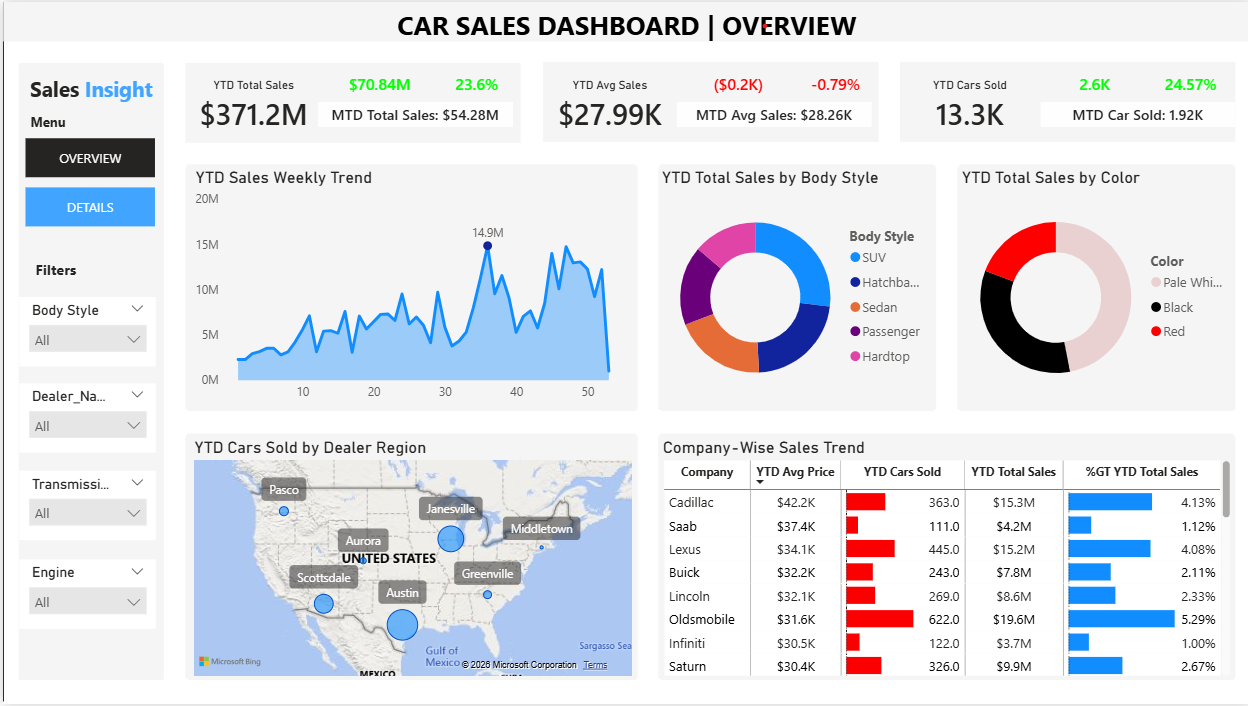

The page's visual inventory and layout, read from the dashboard file:
{"tool":"powerbi","page":{"name":"OVERVIEW","canvas":[1280,720],"ordinal":0},"visuals":[{"type":"card","title":"YTD Total Sales","fields":{"Values":["*Measure table.YTD Total Sales"]},"box":[191.3,78.7,132,61.3],"z":0},{"type":"card","title":"YTD Total Sales","fields":{"Values":["*Measure table.Sales Difference"]},"box":[342,72,88,25.3],"z":1000},{"type":"card","title":"YTD Total Sales","fields":{"Values":["*Measure table.YOY Growth Sales"]},"box":[448.7,72,74.7,25.3],"z":2000},{"type":"card","fields":{"Values":["*Measure table.MTD KPI"]},"box":[323.3,102.7,200,25.3],"z":3000},{"type":"card","title":"YTD Avg Sales","fields":{"Values":["*Measure Table.YTD Average Price"]},"box":[556,78.7,132,61.3],"z":4000},{"type":"card","title":"YTD Total Sales","fields":{"Values":["*Measure Table.Diff Average Price"]},"box":[709.9,71.9,88,25.3],"z":5000},{"type":"card","title":"YTD Total Sales","fields":{"Values":["*Measure Table.YOY Growth in Average Price"]},"box":[816.5,71.9,74.7,25.3],"z":6000},{"type":"card","fields":{"Values":["*Measure Table.MTD Avg KPI"]},"box":[691.2,102.5,200,25.3],"z":7000},{"type":"card","title":"YTD Cars Sold","fields":{"Values":["*Measure Table.YTD Cars Sold"]},"box":[925.3,78.7,132,61.3],"z":8000},{"type":"card","title":"YTD Total Sales","fields":{"Values":["*Measure Table.Cars Sold Diff"]},"box":[1076,72,88,25.3],"z":9000},{"type":"card","title":"YTD Total Sales","fields":{"Values":["*Measure Table.YOY Growth in Cars Sold"]},"box":[1181.3,72,74.7,25.3],"z":10000},{"type":"card","fields":{"Values":["*Measure Table.MTD Cars Sold KPI"]},"box":[1064,102.7,200,25.3],"z":11000},{"type":"areaChart","title":"YTD Sales Weekly Trend","fields":{"Category":["Calander Table.Week"],"Y":["Sum(car_data.Price ($))","*Measure Table.Highest Sales Marker"]},"box":[192.2,168.9,458.9,248.9],"z":12000},{"type":"donutChart","title":"YTD Total Sales by Body Style","fields":{"Category":["car_data.Body Style"],"Y":["*Measure Table.YTD Total Sales"]},"box":[671.1,168.9,285.6,248.9],"z":13000},{"type":"donutChart","title":"YTD Total Sales by Color","fields":{"Category":["car_data.Color"],"Y":["*Measure Table.YTD Total Sales"]},"box":[977.8,168.9,286.7,248.9],"z":14000},{"type":"map","title":"YTD Cars Sold by Dealer Region","fields":{"Category":["car_data.Dealer_Region"],"Size":["*Measure Table.YTD Cars Sold"]},"box":[191.1,446.7,458.9,250],"z":15000},{"type":"tableEx","title":"Company-Wise Sales Trend","fields":{"Values":["car_data.Company","*Measure Table.YTD Average Price","*Measure Table.YTD Cars Sold","*Measure Table.YTD Total Sales1","*Measure Table.YTD Total Sales"]},"box":[671.2,446.2,592.5,250],"z":16000},{"type":"textbox","box":[0,0,1280,40],"z":17000},{"type":"slicer","fields":{"Values":["car_data.Body Style"]},"box":[16.2,302.5,140,71.2],"z":18000},{"type":"slicer","fields":{"Values":["car_data.Dealer_Name"]},"box":[16.2,391.2,140,71.2],"z":19000},{"type":"slicer","fields":{"Values":["car_data.Transmission"]},"box":[16.2,481.2,140,71.2],"z":20000},{"type":"slicer","fields":{"Values":["car_data.Engine"]},"box":[16.2,571.2,140,71.2],"z":21000},{"type":"textbox","box":[28.8,258.8,78.8,35],"z":22000},{"type":"textbox","box":[16.1,68.9,147.8,40.6],"z":22001},{"type":"textbox","box":[22.8,109.4,63.9,29.4],"z":22002},{"type":"pageNavigator","box":[23.1,140,133.1,90],"z":22003}]}

Visuals, with their boxes in screenshot pixels (x1, y1, x2, y2), scaled from the page's 1280x720 canvas onto the 1248x706 screenshot:
"YTD Total Sales" card: [187,77,315,137]
"YTD Total Sales" card: [333,71,419,95]
"YTD Total Sales" card: [437,71,510,95]
card - *Measure table.MTD KPI: [315,101,510,126]
"YTD Avg Sales" card: [542,77,671,137]
"YTD Total Sales" card: [692,71,778,95]
"YTD Total Sales" card: [796,71,869,95]
card - *Measure Table.MTD Avg KPI: [674,101,869,125]
"YTD Cars Sold" card: [902,77,1031,137]
"YTD Total Sales" card: [1049,71,1135,95]
"YTD Total Sales" card: [1152,71,1225,95]
card - *Measure Table.MTD Cars Sold KPI: [1037,101,1232,126]
"YTD Sales Weekly Trend" areaChart: [187,166,635,410]
"YTD Total Sales by Body Style" donutChart: [654,166,933,410]
"YTD Total Sales by Color" donutChart: [953,166,1233,410]
"YTD Cars Sold by Dealer Region" map: [186,438,634,683]
"Company-Wise Sales Trend" tableEx: [654,438,1232,683]
textbox: [0,0,1247,39]
slicer - car_data.Body Style: [16,297,152,366]
slicer - car_data.Dealer_Name: [16,384,152,453]
slicer - car_data.Transmission: [16,472,152,542]
slicer - car_data.Engine: [16,560,152,630]
textbox: [28,254,105,288]
textbox: [16,68,160,107]
textbox: [22,107,85,136]
pageNavigator: [23,137,152,226]
